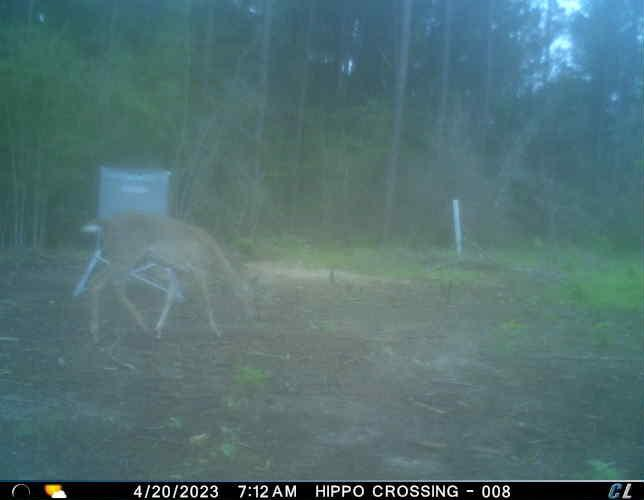Deer: (79, 204, 265, 349)
